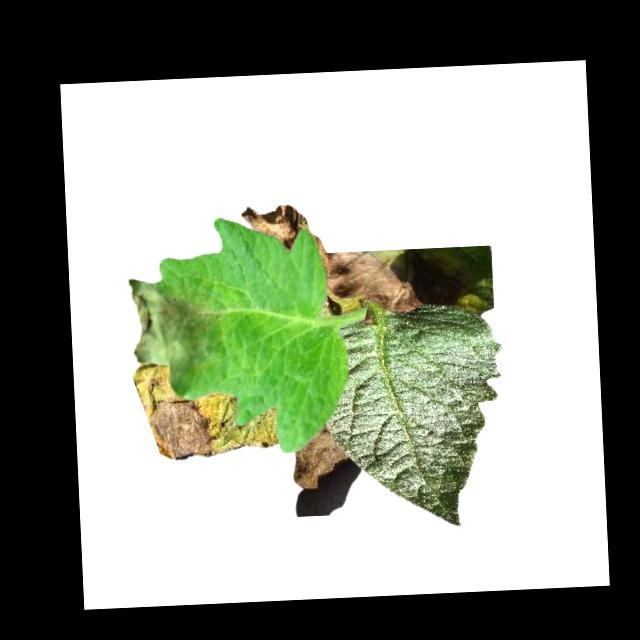Late_blight: (129, 358, 280, 464), (125, 273, 217, 395), (311, 229, 422, 319), (289, 423, 348, 489), (237, 203, 308, 252)
healthy: (319, 303, 511, 533)
